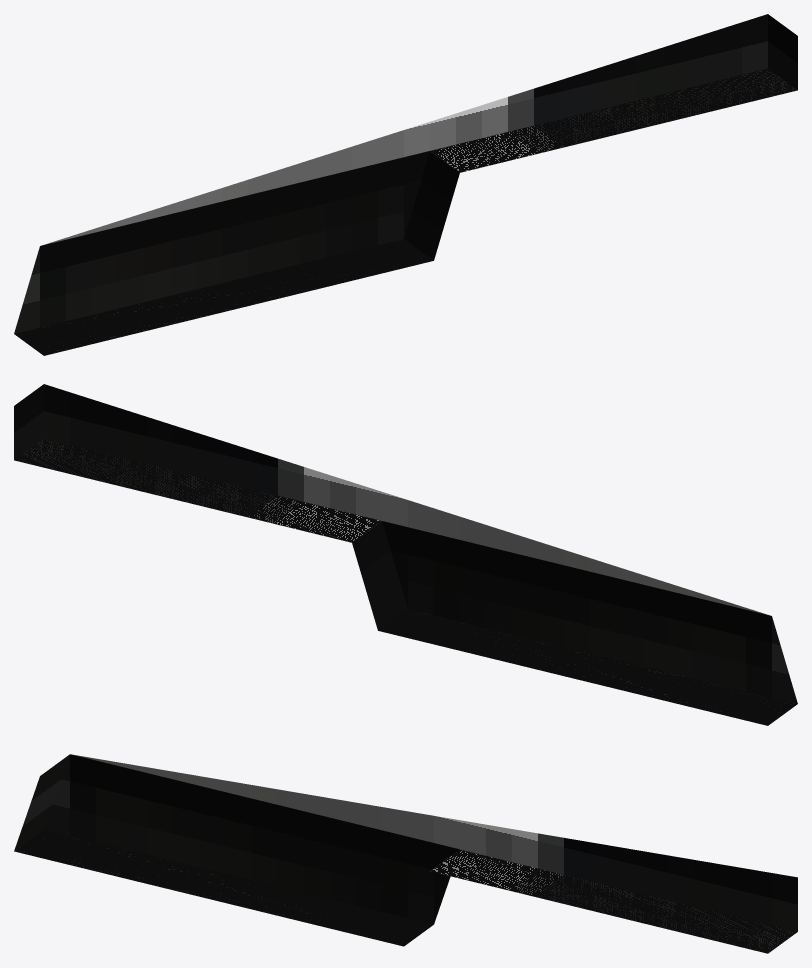
The model's file is npcs_04.glb.
3 renders of one model, top to bottom at view 1: azimuth 30°, elevation 25°; view 2: azimuth 150°, elevation 25°; view 3: azimuth 330°, elevation 25°, orthographic.
Visible parts, largest first — view 1: world; view 2: world; view 3: world.
Boxes of the visible parts, x1=… form: world: x1=14, y1=14, x2=797, y2=355; world: x1=14, y1=384, x2=797, y2=725; world: x1=14, y1=754, x2=797, y2=953.
Size of the model in its own units: 0.29 by 0.05 by 0.02.
1 material, 1 textured.
